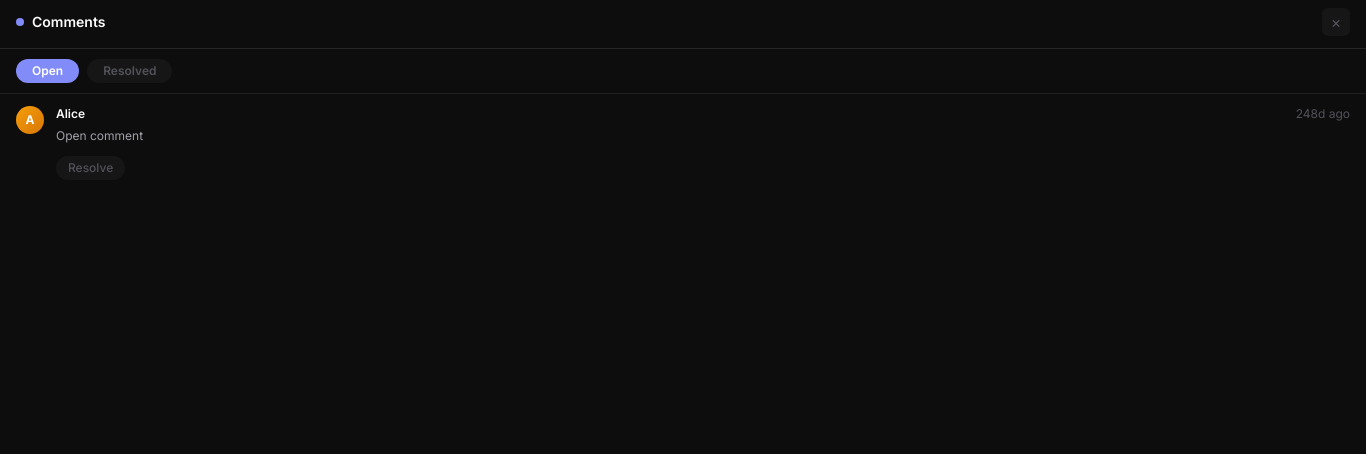
Test case: CommentsPanel › shows empty state message when no resolved comments
Click the button "Resolved" at (130, 71), box x1=87 y1=59 x2=172 y2=83
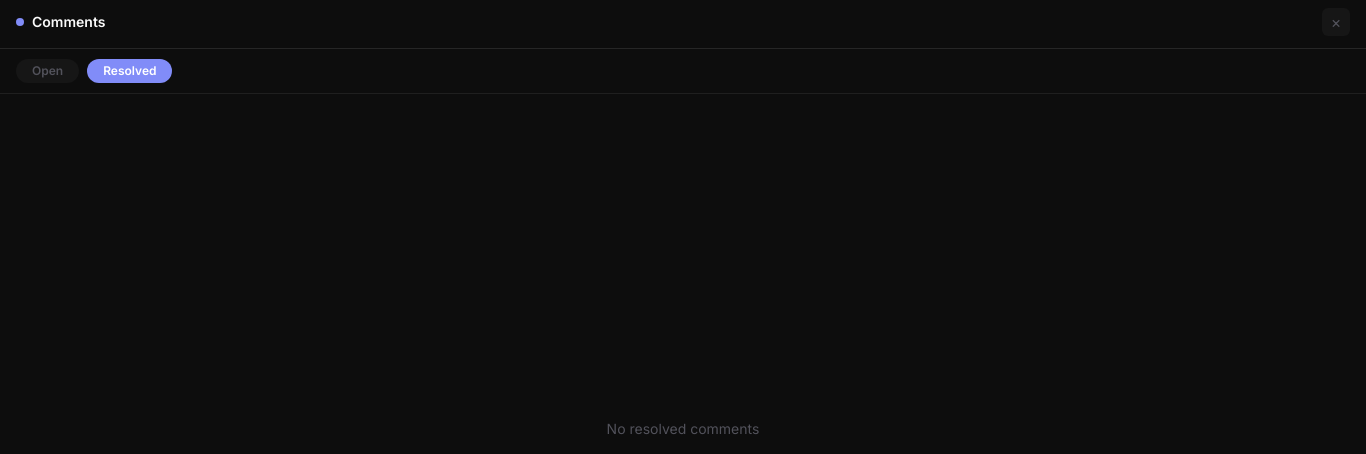
expect the text "No resolved comments" is shown: met, box x1=607 y1=420 x2=759 y2=437
